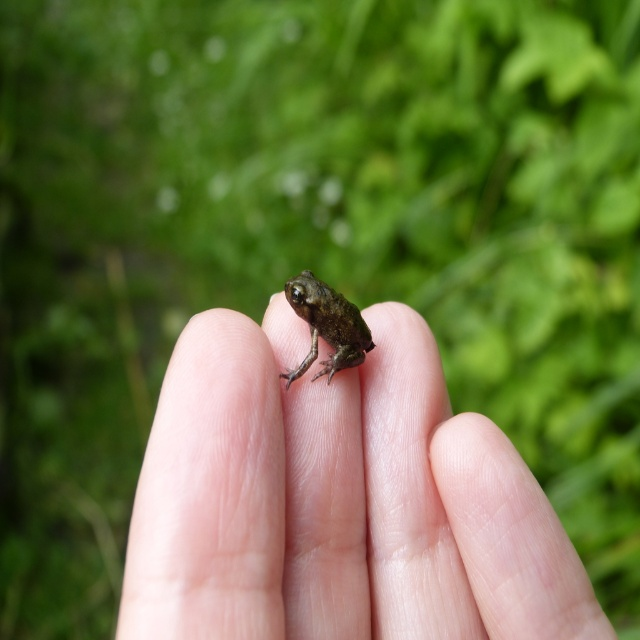Frog: (279, 271, 375, 390)
